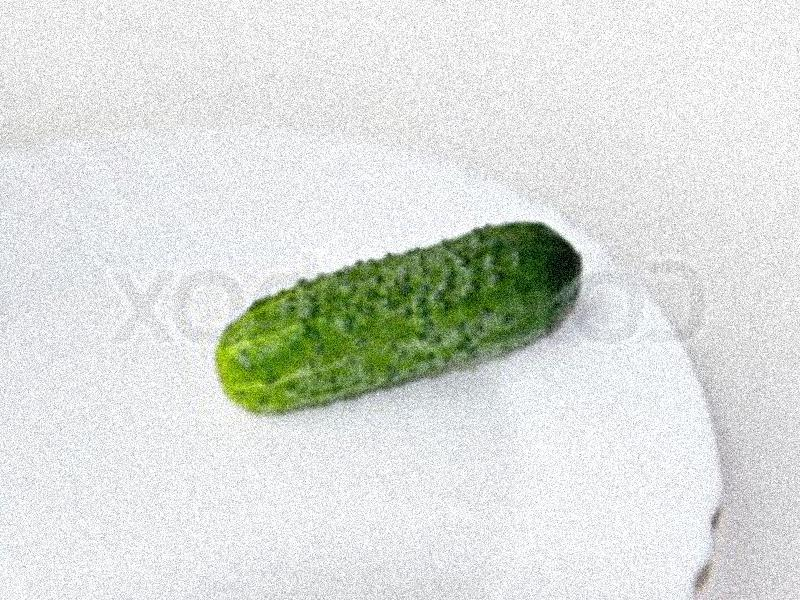Cucumber: (218, 222, 577, 415)
